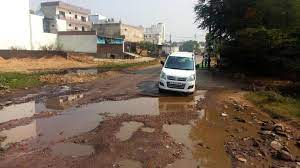potholes: (104, 113, 166, 144)
